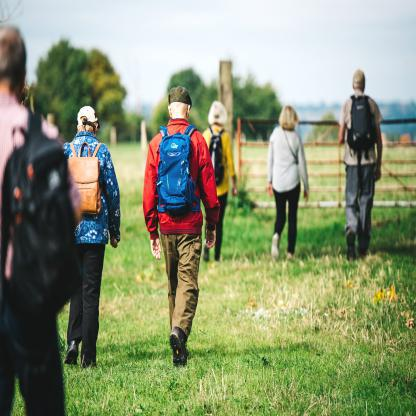person: (0, 24, 68, 415), (144, 86, 216, 366), (61, 104, 120, 366), (337, 68, 385, 262), (266, 104, 308, 260), (198, 99, 233, 265)
